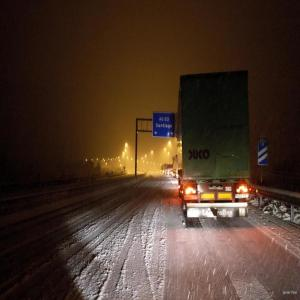Vehicle-registration-plate: (236, 193, 249, 200)
